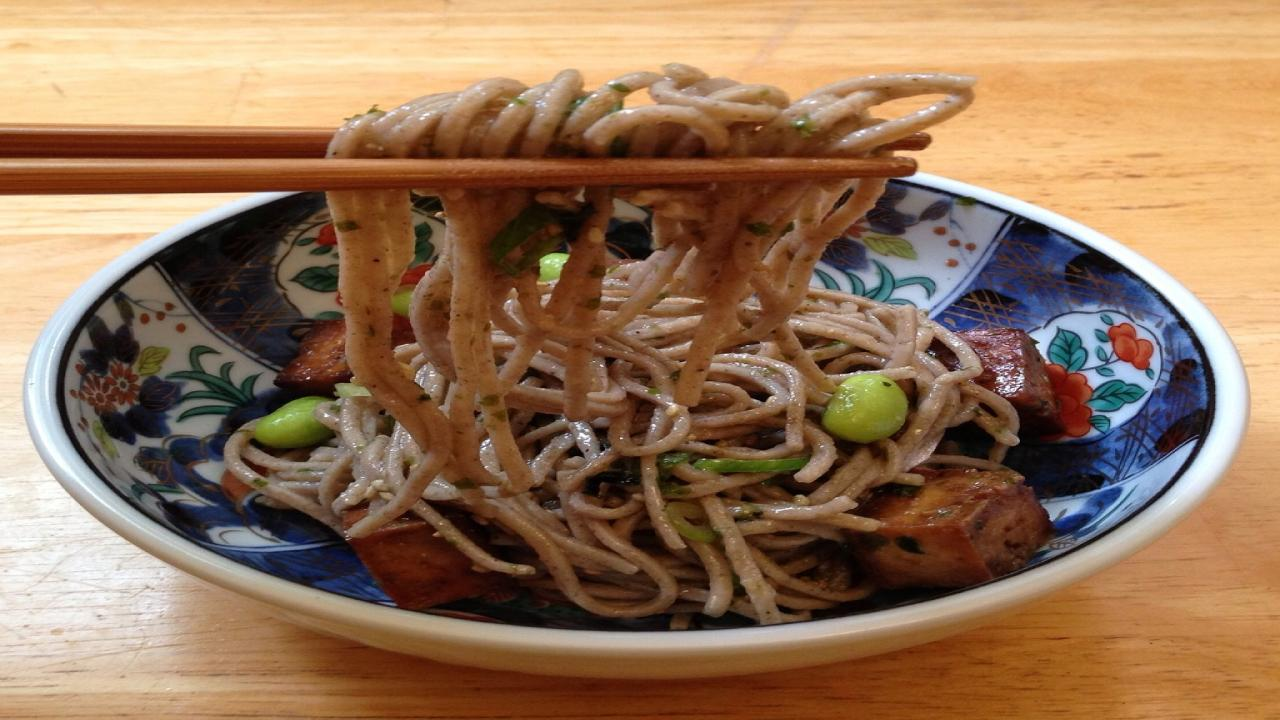chopstick: (1, 120, 931, 195)
